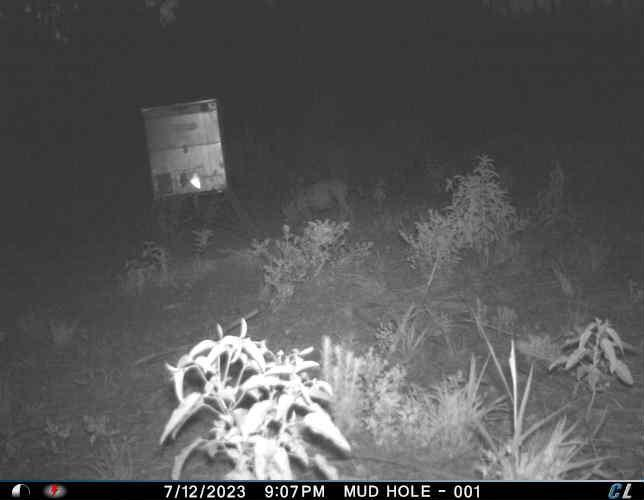Hog: (278, 172, 358, 227)
